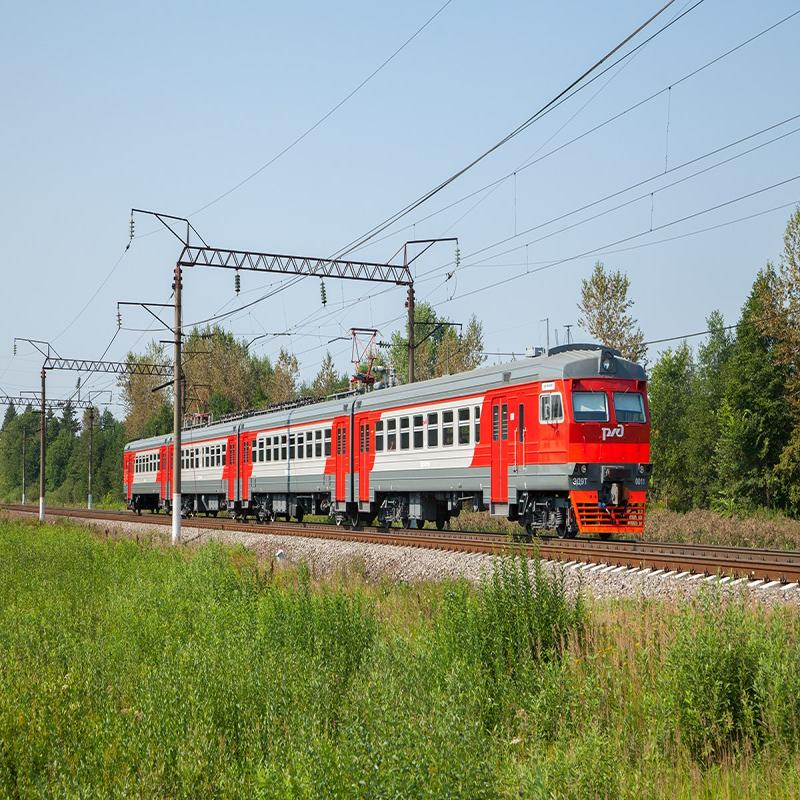train: (351, 304, 663, 550), (239, 354, 364, 538), (116, 406, 246, 519)
